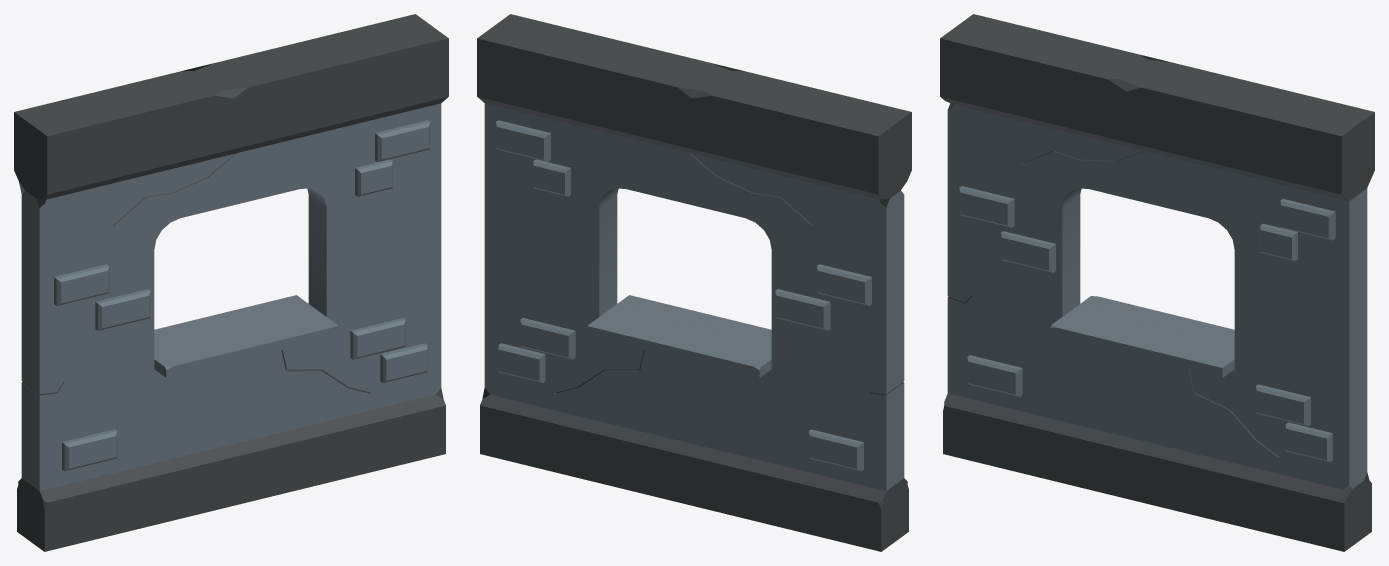
Rendered from wall_1_2.glb.
3 renders of one model, left to right at view 1: azimuth 30°, elevation 25°; view 2: azimuth 150°, elevation 25°; view 3: azimuth 330°, elevation 25°, orthographic.
Visible parts, largest first — view 1: wall_1_2; view 2: wall_1_2; view 3: wall_1_2.
Boxes of the visible parts, x1=… form: wall_1_2: x1=14, y1=14, x2=448, y2=551; wall_1_2: x1=477, y1=14, x2=911, y2=551; wall_1_2: x1=940, y1=14, x2=1374, y2=551.
Bounding box in the file's own units: 1.54 × 1.53 × 0.2805.
Materials: 1 (1 with a texture image).
